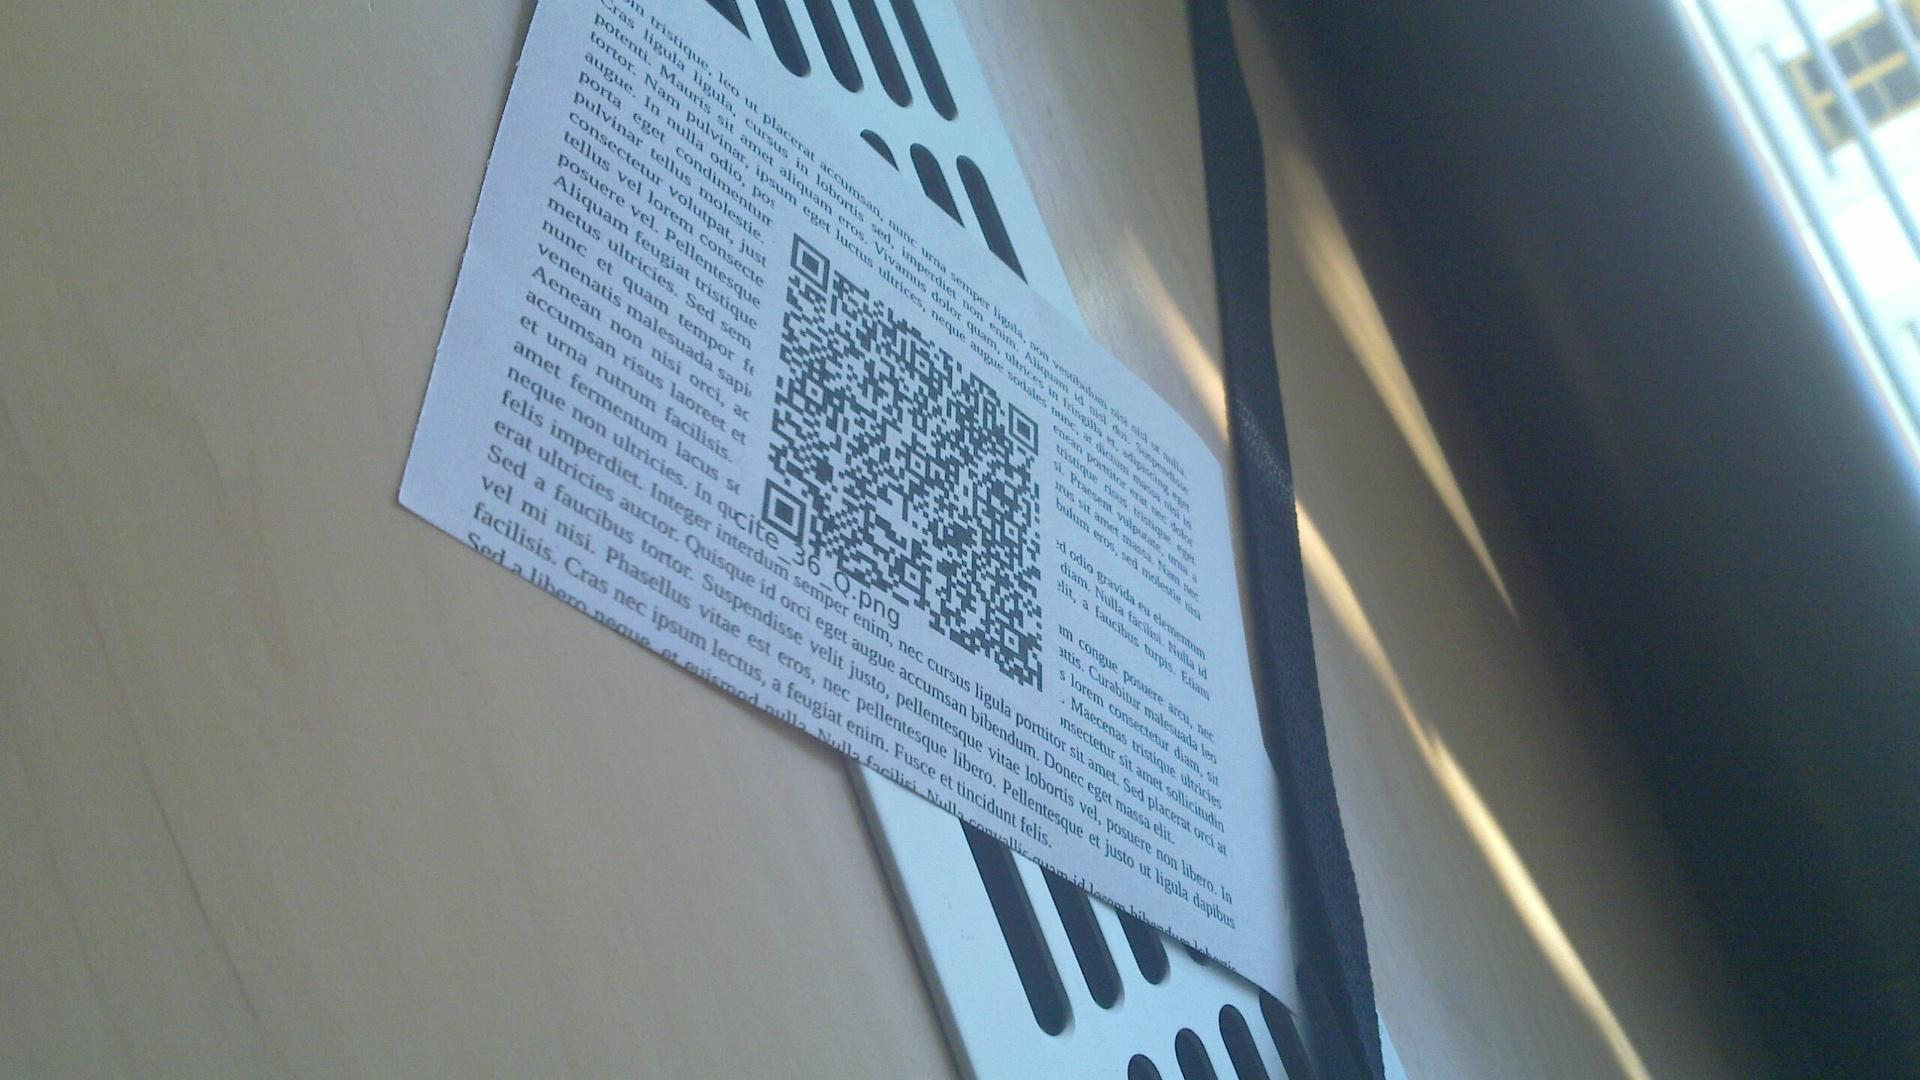Finder pattern: (781, 229, 837, 293), (756, 477, 807, 546), (1002, 402, 1044, 454)
